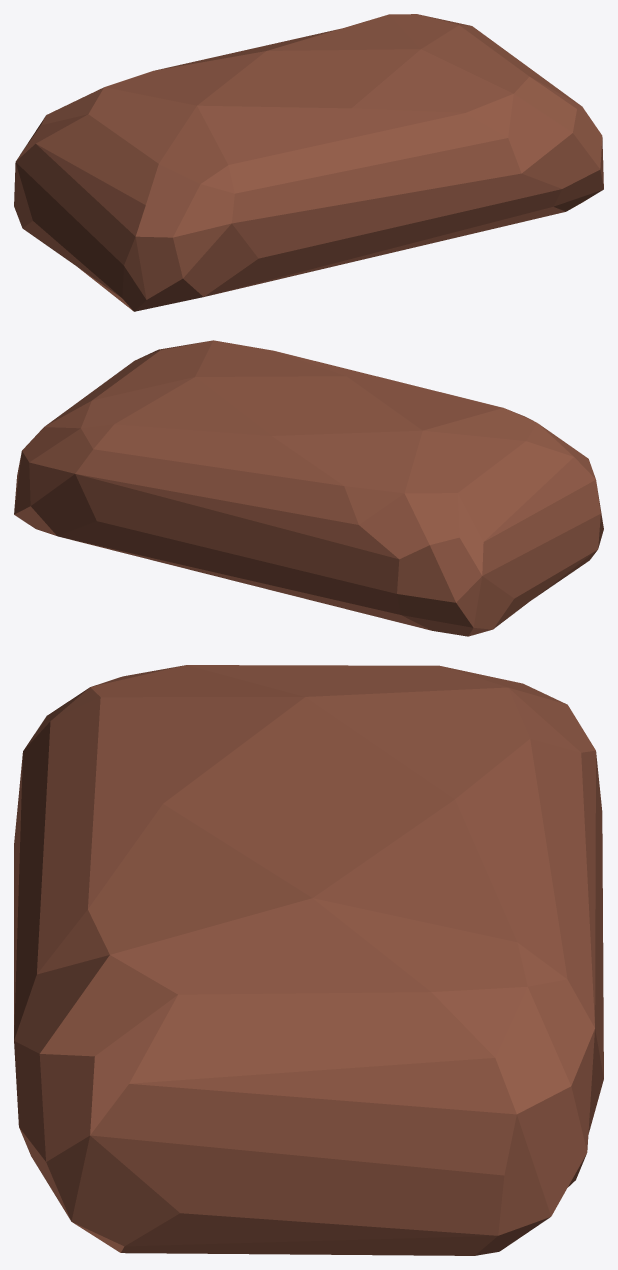
The model's file is bag.fbx.
3 views of the same model, one above another, from view 1: azimuth 30°, elevation 25°; view 2: azimuth 150°, elevation 25°; view 3: azimuth 270°, elevation 25° (orthographic). The views are drawn at different scales.
Parts seen in each view (by area): view 1: bag; view 2: bag; view 3: bag.
Boxes of the visible parts, box(x1,y1,x2,y2) form: bag: box(14, 14, 603, 311); bag: box(14, 340, 603, 636); bag: box(14, 665, 603, 1255).
Size of the model in its own units: 354 by 103 by 206.
